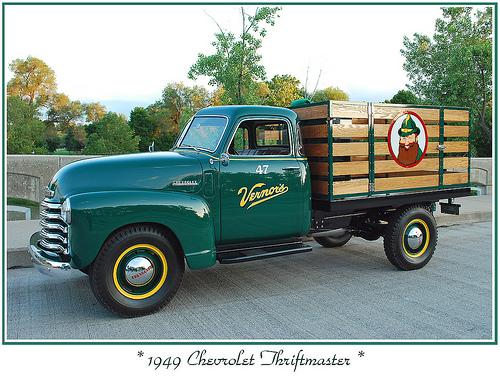truck: (28, 97, 479, 318)
